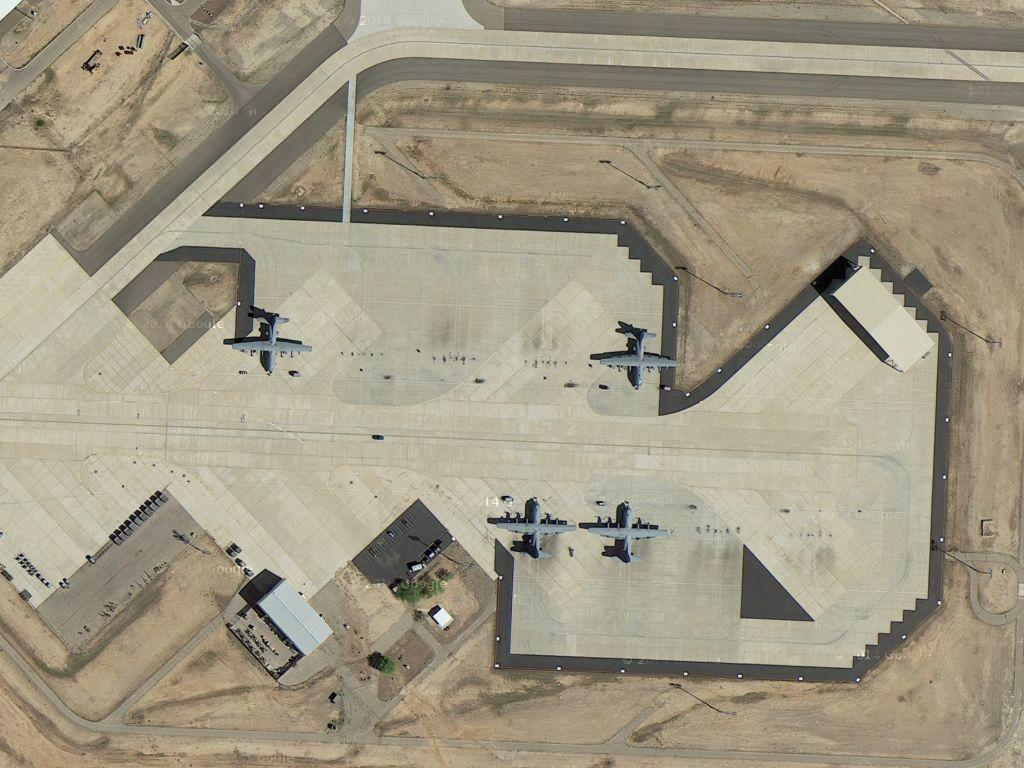C-130: (223, 308, 314, 379), (489, 495, 577, 561), (581, 498, 665, 567), (596, 325, 682, 387)
